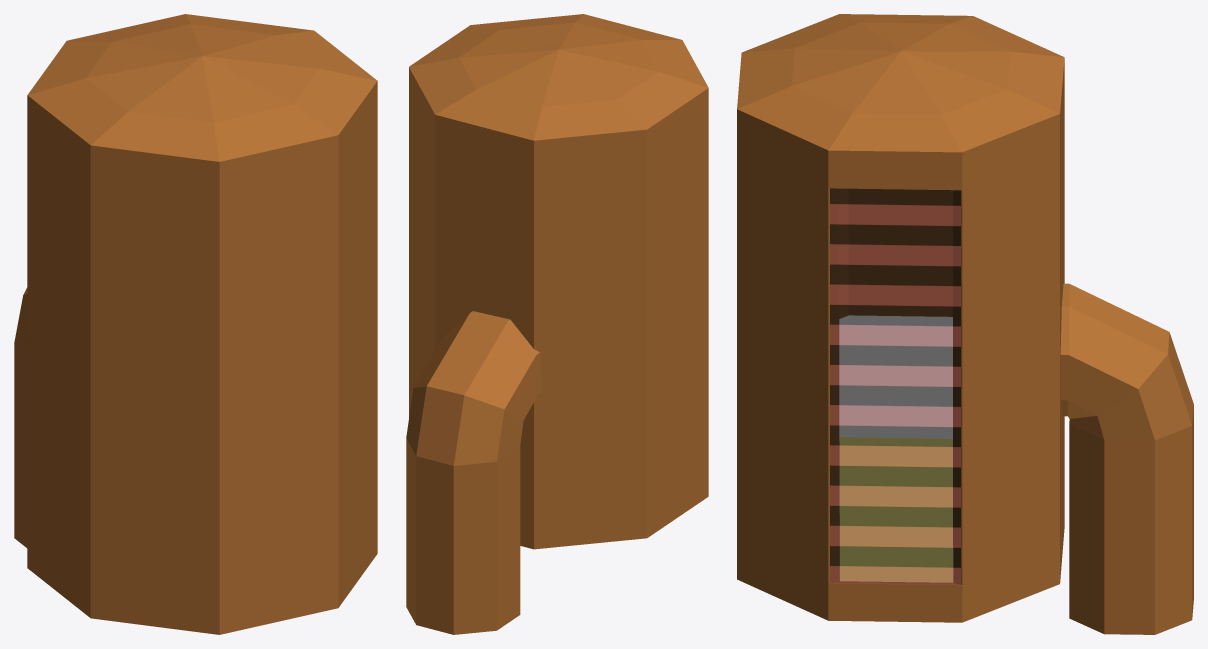
The model's file is VAT70.glb.
3 renders of one model, left to right at view 1: azimuth 30°, elevation 25°; view 2: azimuth 150°, elevation 25°; view 3: azimuth 270°, elevation 25°, orthographic. The views are drawn at different scales.
Parts seen in each view (by area): view 1: Cylinder, Cylinder.001; view 2: Cylinder, Cylinder.001; view 3: Cylinder, glass, Cylinder.001, liquidHeight.
Part boxes in pixels (left/top/right/bottom): Cylinder: left=27, top=14, right=377, bottom=634; Cylinder.001: left=14, top=287, right=27, bottom=547; Cylinder: left=409, top=14, right=708, bottom=549; Cylinder.001: left=406, top=311, right=541, bottom=634; Cylinder: left=737, top=14, right=1064, bottom=622; glass: left=830, top=188, right=960, bottom=584; Cylinder.001: left=1060, top=283, right=1193, bottom=634; liquidHeight: left=839, top=315, right=952, bottom=582.
Size of the model in its own units: 1.82 by 3.44 by 2.54.
4 materials, 1 textured.
